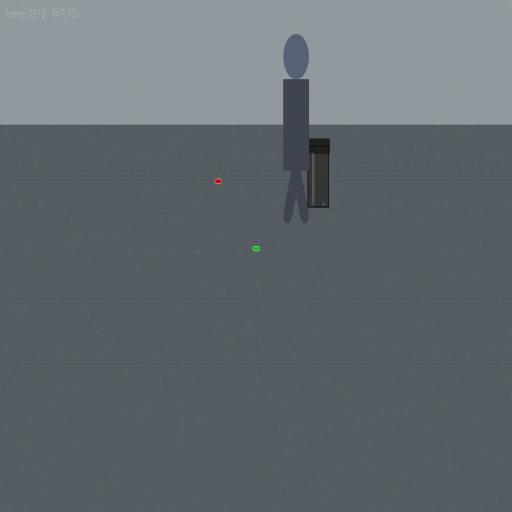bin: (307, 138, 330, 208)
